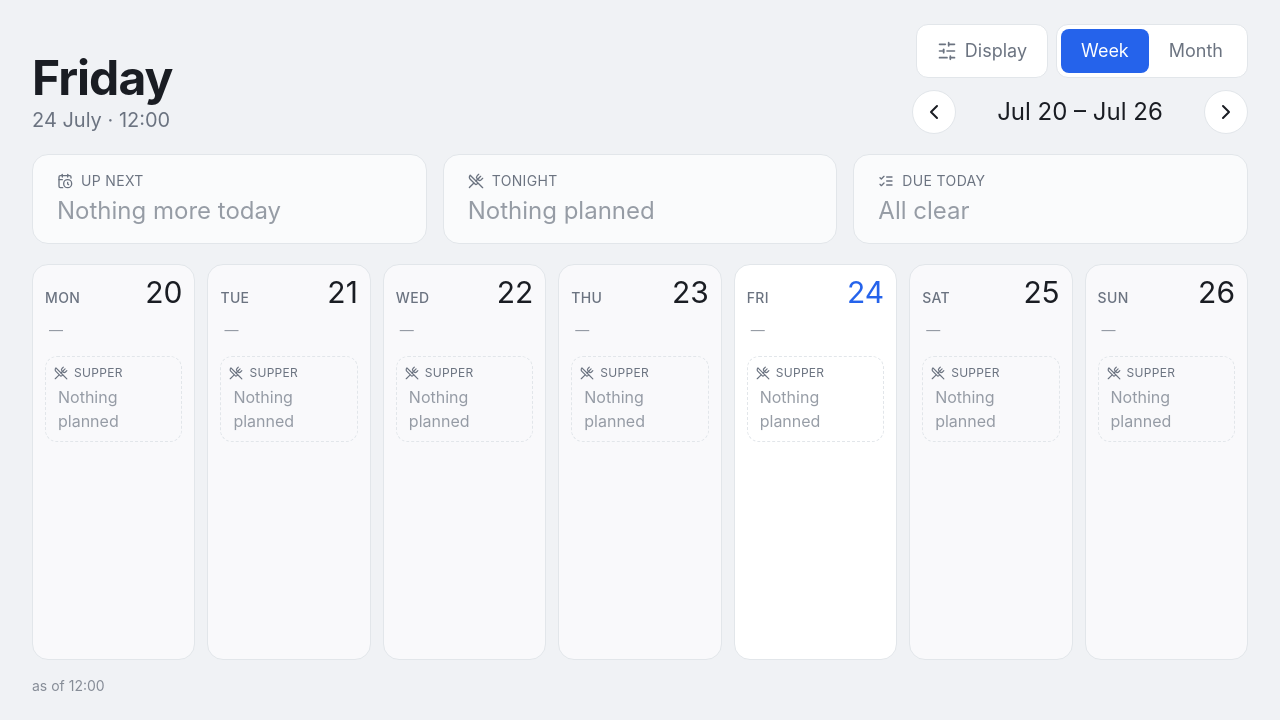
it: HearthPage add-event overlay › closes only via the big X — not via Escape
The width and height of the screenshot is (1280, 720).
Click the element showing "Mon 20 — Supper Nothing planned". click: (114, 462)
box: [32,264,195,660]
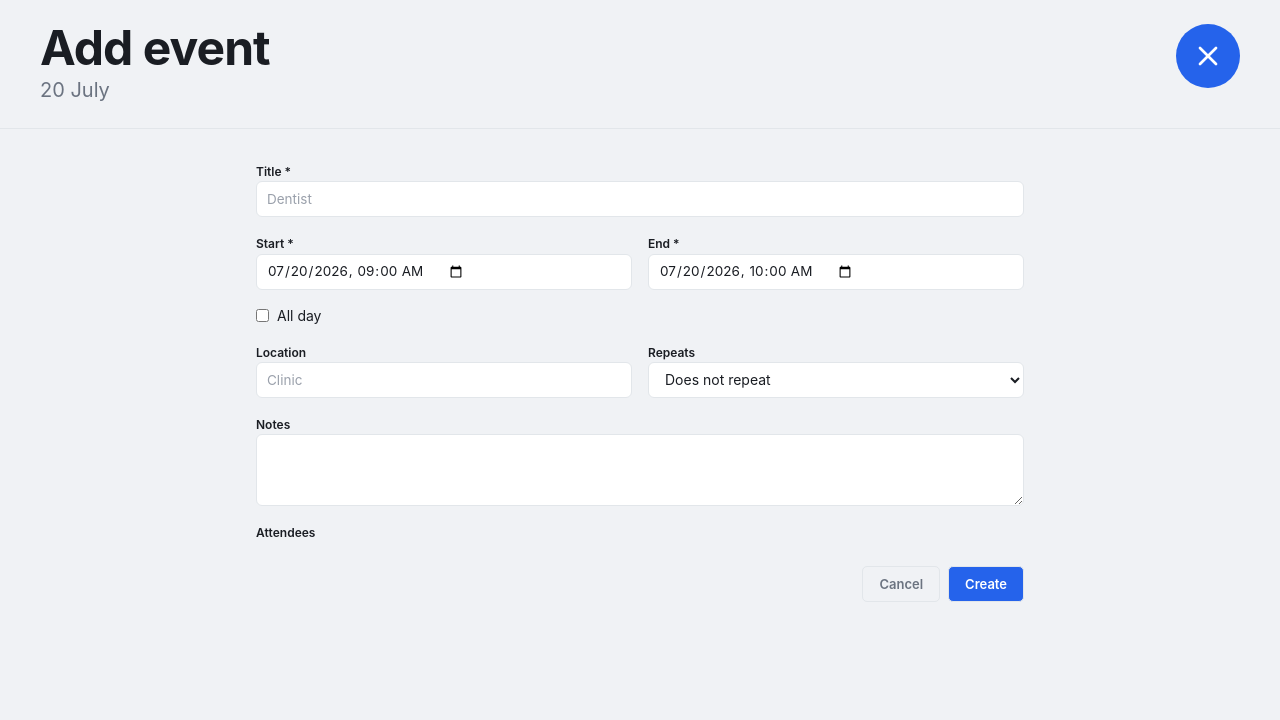
Press Escape
Now the dialog "Add event" is shown
Click the button named "Close". click: (1208, 56)
box: [1176,24,1240,88]
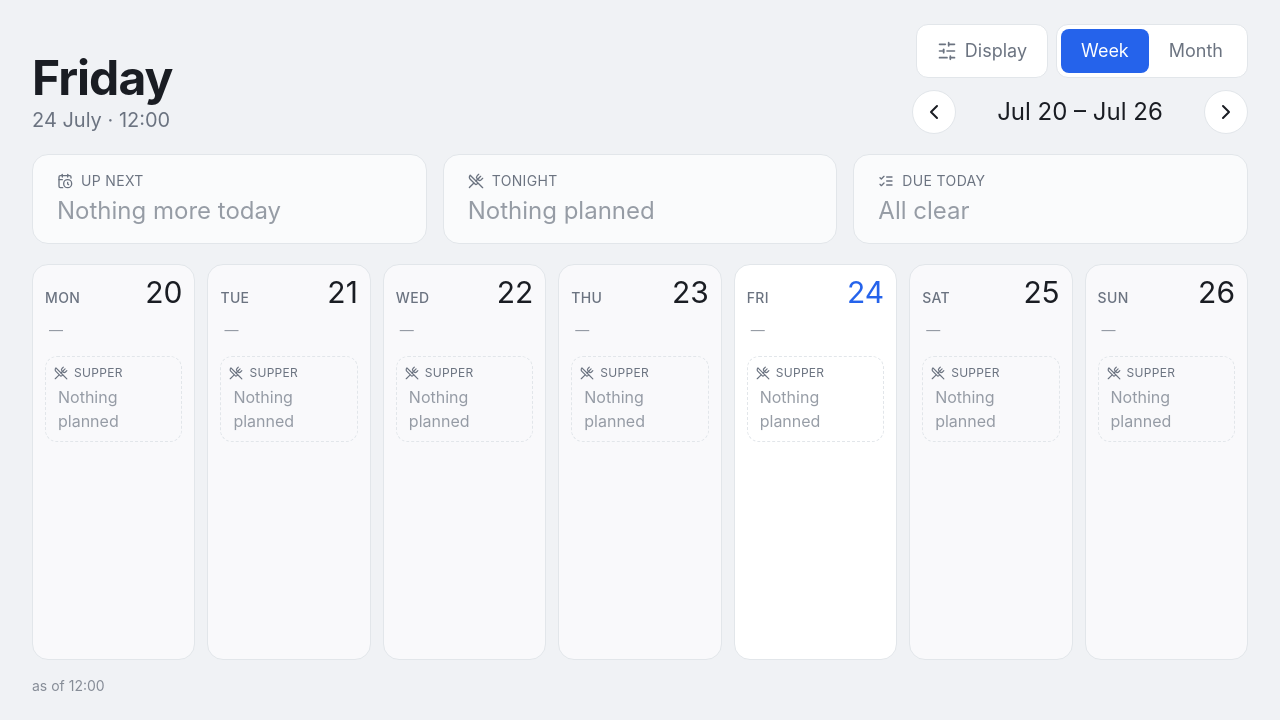
Now the heading "Add event" is gone
